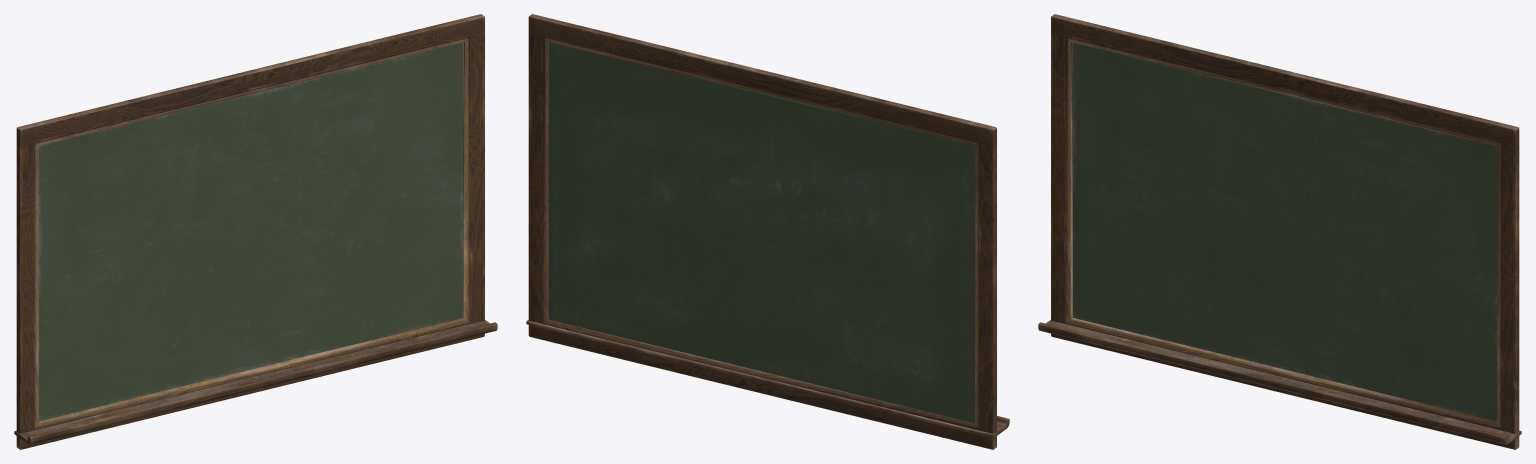
File: Mesh_Chalkboard.fbx
3 views of the same model, side by side, from view 1: azimuth 30°, elevation 25°; view 2: azimuth 150°, elevation 25°; view 3: azimuth 330°, elevation 25° (orthographic).
Visible parts, largest first — view 1: Mesh_Chalkboard_LOD0; view 2: Mesh_Chalkboard_LOD0; view 3: Mesh_Chalkboard_LOD0.
Boxes of the visible parts, left/top/right/bottom form: Mesh_Chalkboard_LOD0: left=14, top=14, right=497, bottom=449; Mesh_Chalkboard_LOD0: left=526, top=14, right=1009, bottom=449; Mesh_Chalkboard_LOD0: left=1038, top=14, right=1521, bottom=449.
Size of what is drawn, in the model's own units: 1.71 by 1.12 by 0.1028.
